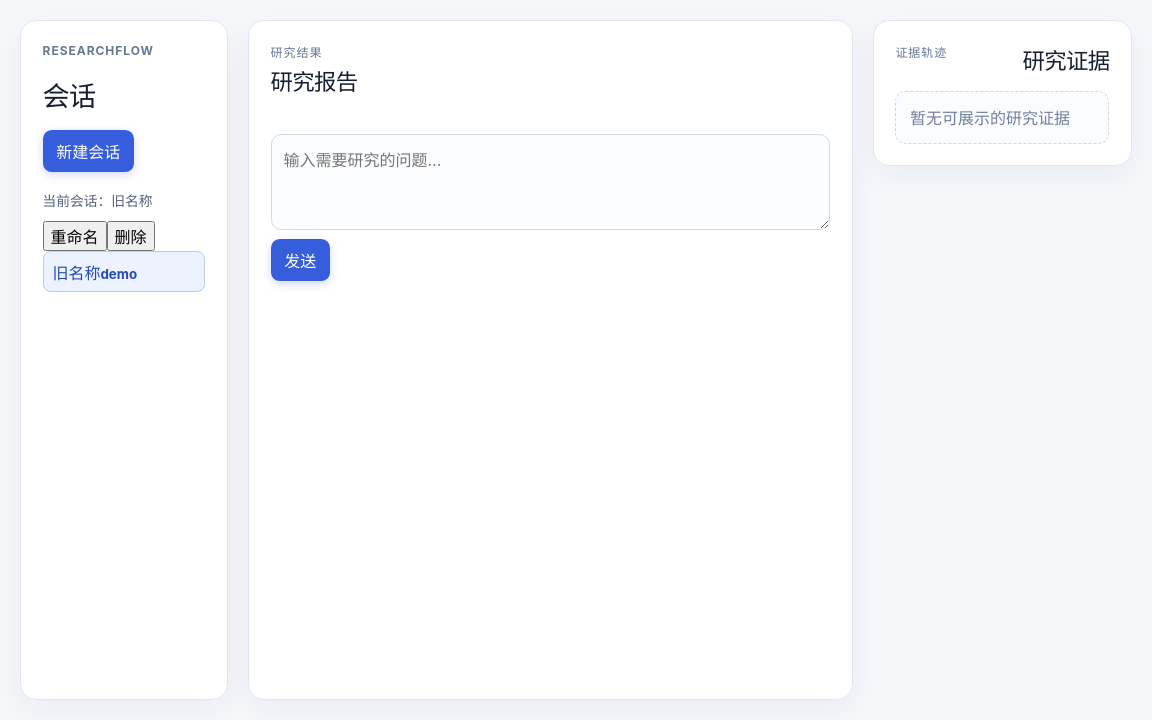
Test: App › renames and deletes the active session
Expected: the button "旧名称" is shown, [43,251,205,292]
Click the button with aria-label "重命名会话": (75, 236) [43,221,107,251]
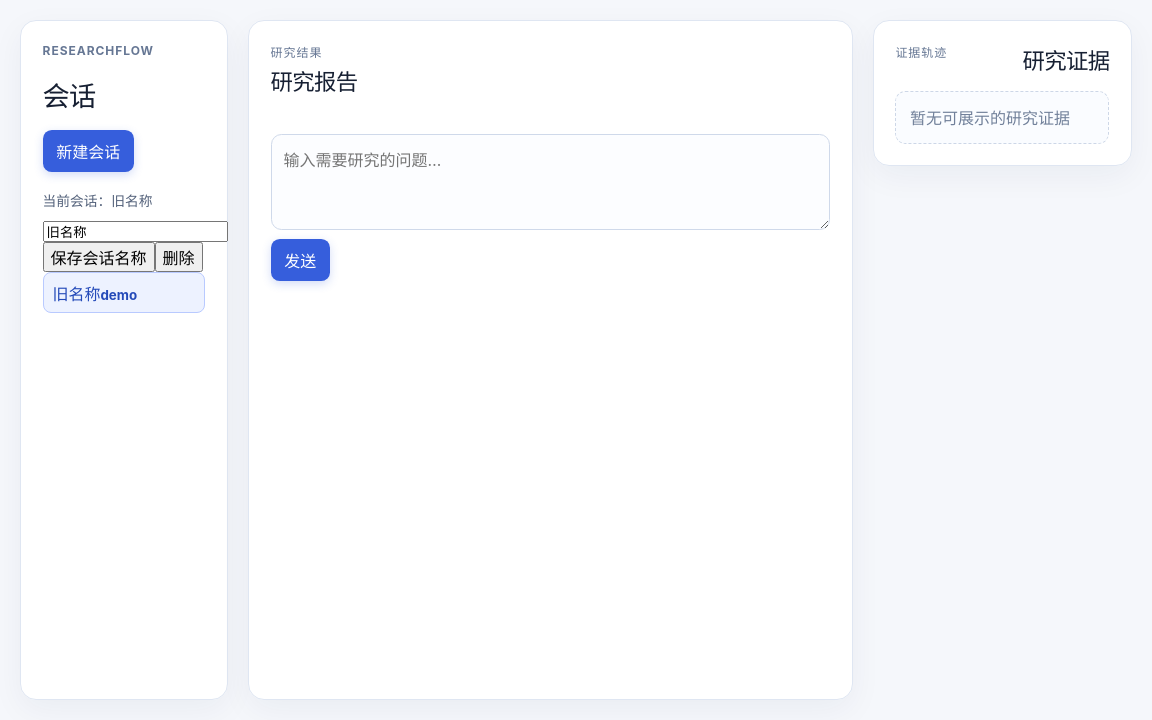
Replace the text in the field named "会话名称" with "新名称": (135, 231) [43,221,228,242]
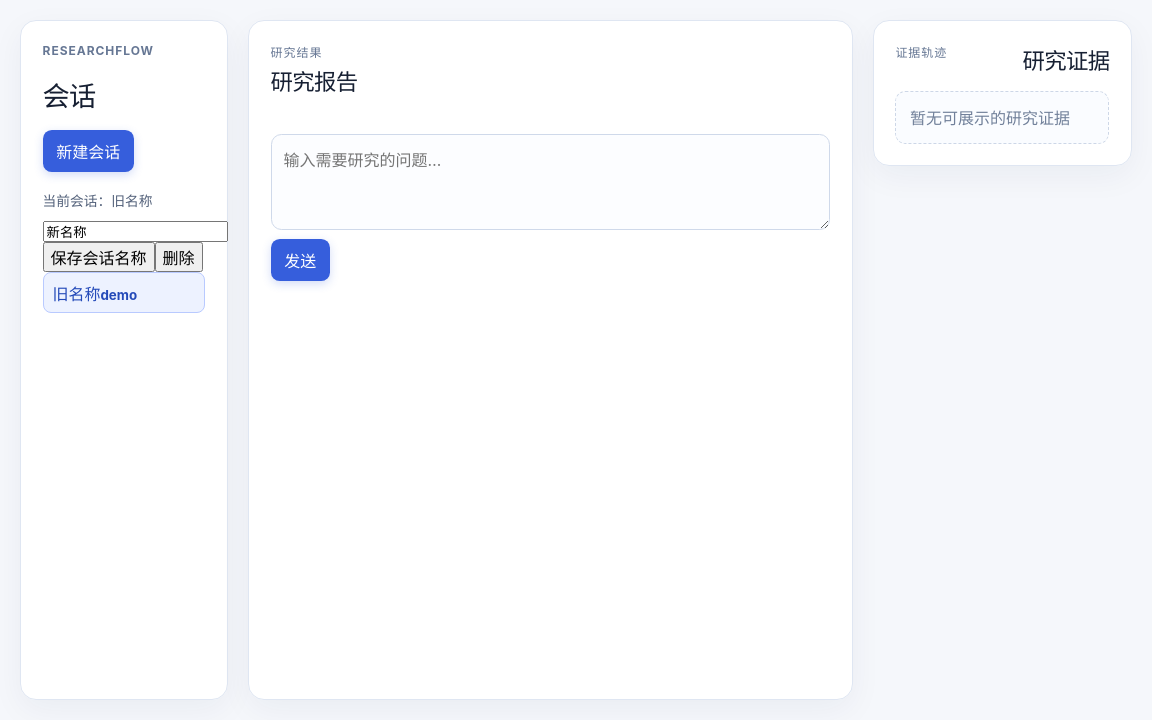
Click the button "保存会话名称": (99, 257) [43,242,155,272]
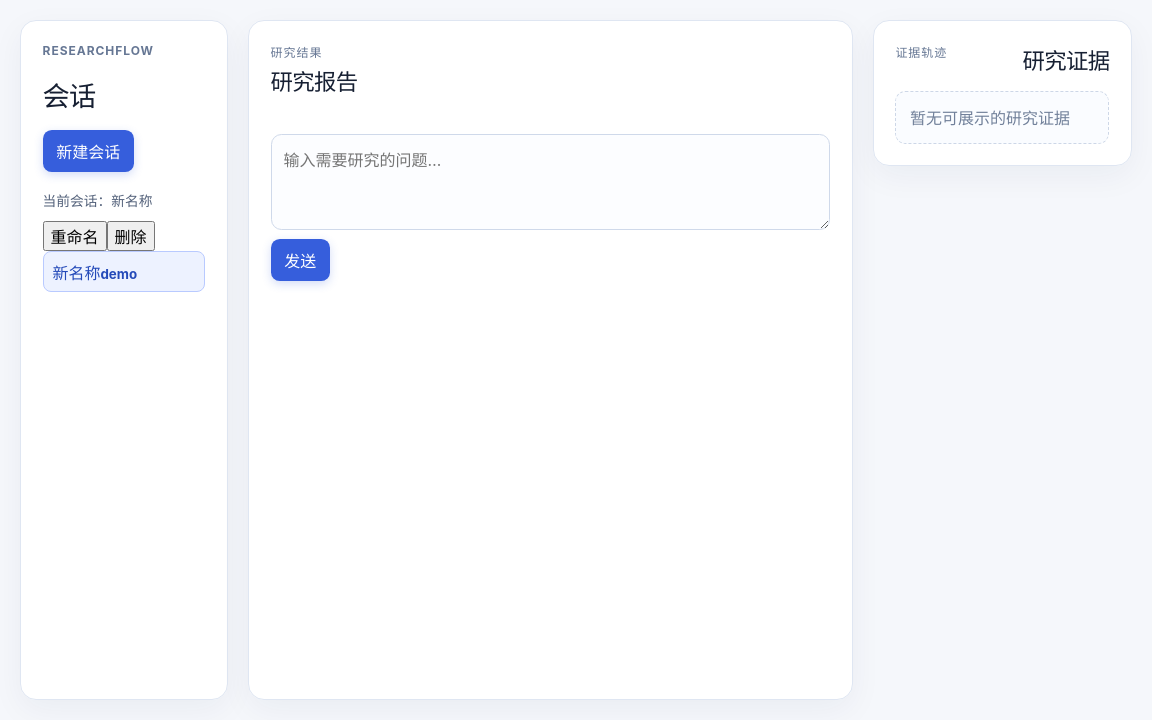
Now the button "新名称" is shown, box [43,251,205,292]
Click the button with aria-label "删除会话": (131, 236) [107,221,155,251]
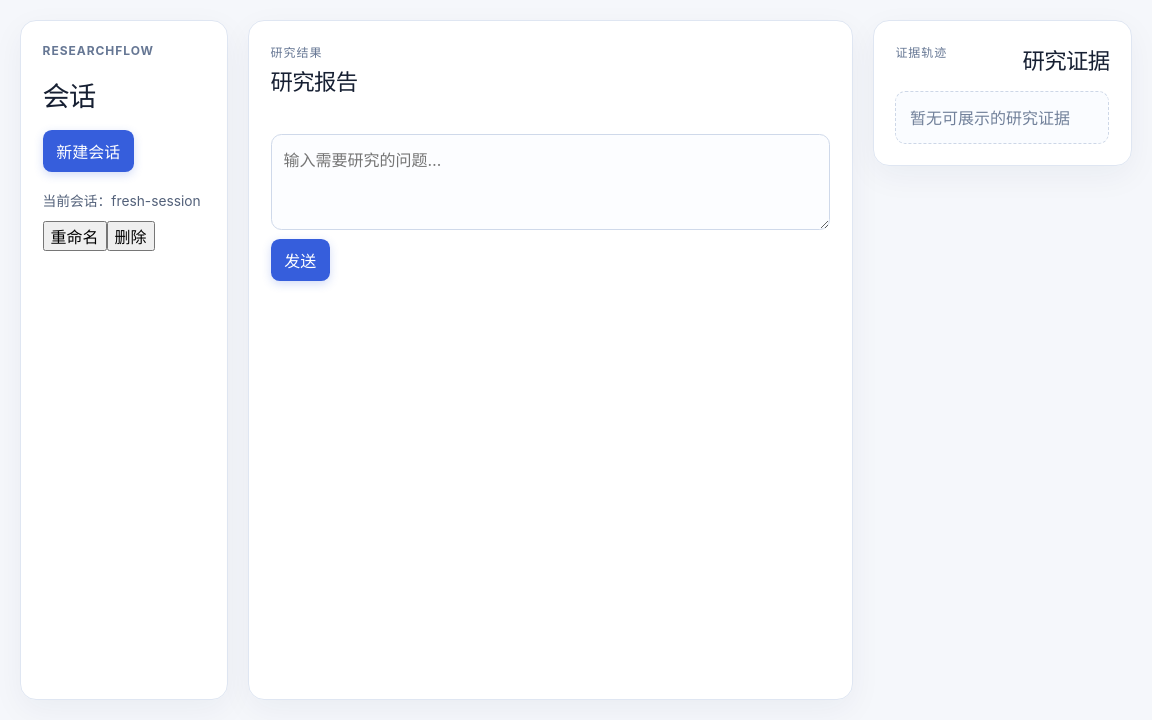
Now the text "当前会话：fresh-session" is shown, box [43,190,205,210]
